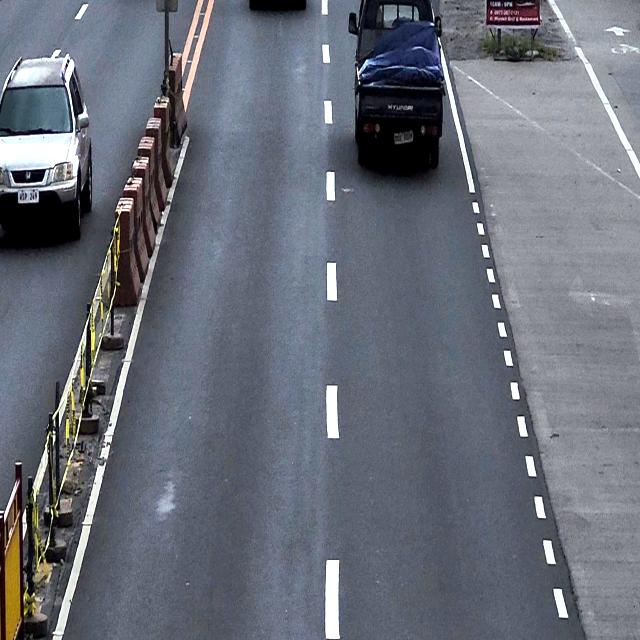Car: (0, 48, 93, 238), (348, 0, 445, 170)
License-Plate: (18, 188, 40, 204), (393, 129, 414, 145)
